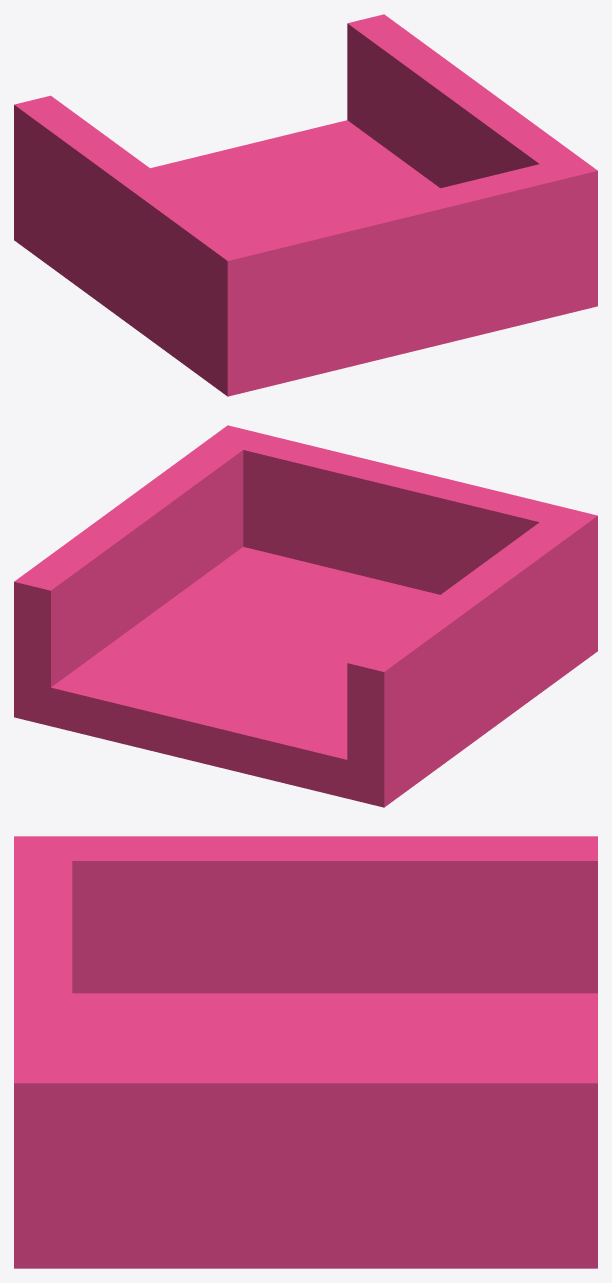
Rendered from PinkRoof_3Edges_Small.glb.
3 views of the same model, one above another, from view 1: azimuth 30°, elevation 25°; view 2: azimuth 150°, elevation 25°; view 3: azimuth 270°, elevation 25° (orthographic). The views are drawn at different scales.
Parts seen in each view (by area): view 1: roof_flat_3Edges_small_pink; view 2: roof_flat_3Edges_small_pink; view 3: roof_flat_3Edges_small_pink.
Boxes of the visible parts, x1,y1,x2,y2 form: roof_flat_3Edges_small_pink: (14,14,597,396); roof_flat_3Edges_small_pink: (14,425,597,807); roof_flat_3Edges_small_pink: (14,836,597,1268).
Size of what is drawn, in the model's own units: 2 by 0.7 by 2.
Materials: 1 (1 with a texture image).
